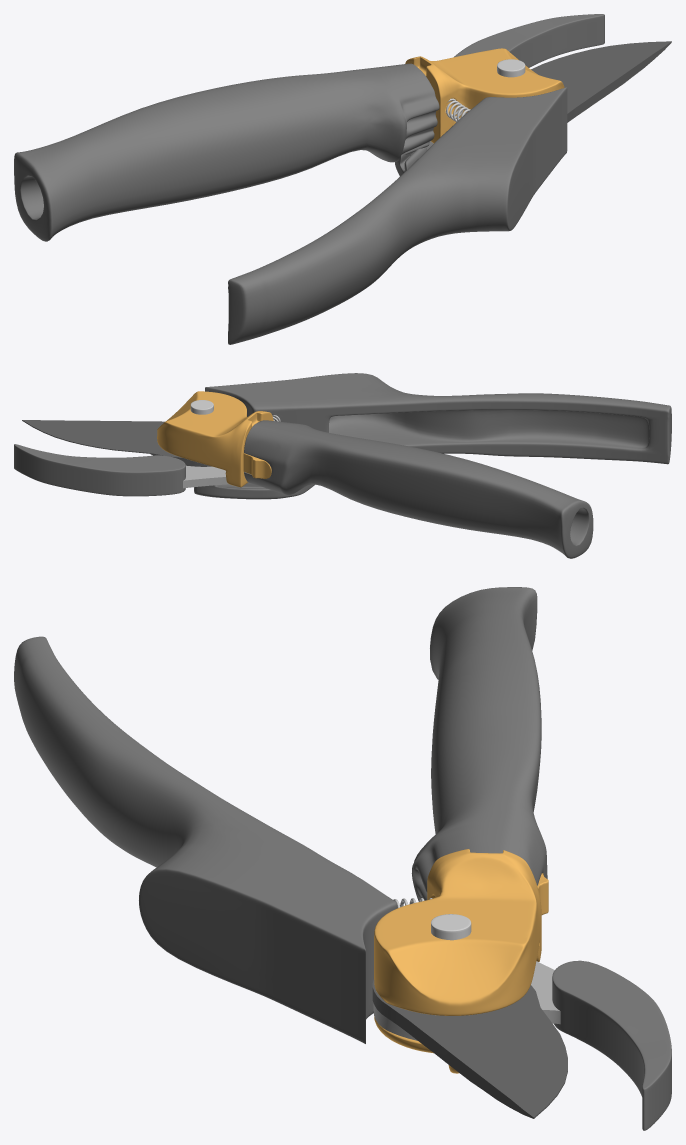
3 views of the same model, one above another, from view 1: azimuth 30°, elevation 25°; view 2: azimuth 150°, elevation 25°; view 3: azimuth 270°, elevation 25° (orthographic). The views are drawn at different scales.
Visible parts, largest first — view 1: Rectangle1, Rectangle2, Circle29, Line10, Line13; view 2: Rectangle2, Rectangle1, Line13, Circle29, Line10, Line09, Line08, Circle31; view 3: Rectangle2, Rectangle1, Circle29, Line10, Line13, Line09, Circle31.
Boxes of the visible parts, <box> form: Rectangle1: <box>14,63,439,241</box>; Rectangle2: <box>228,87,567,344</box>; Circle29: <box>405,48,564,143</box>; Line10: <box>531,41,671,122</box>; Line13: <box>454,14,604,67</box>; Rectangle2: <box>194,373,671,499</box>; Rectangle1: <box>244,420,593,558</box>; Line13: <box>14,444,185,496</box>; Circle29: <box>157,391,273,487</box>; Line10: <box>22,420,211,466</box>; Line09: <box>183,465,228,488</box>; Line08: <box>243,453,271,478</box>; Circle31: <box>190,400,213,414</box>; Rectangle2: <box>14,636,397,1043</box>; Rectangle1: <box>411,587,547,901</box>; Circle29: <box>374,849,541,1015</box>; Line10: <box>372,979,567,1118</box>; Line13: <box>552,960,671,1130</box>; Line09: <box>373,961,560,1040</box>; Circle31: <box>431,914,471,940</box>.
Size of the model in its own units: 93.71 by 15.2 by 56.58.
